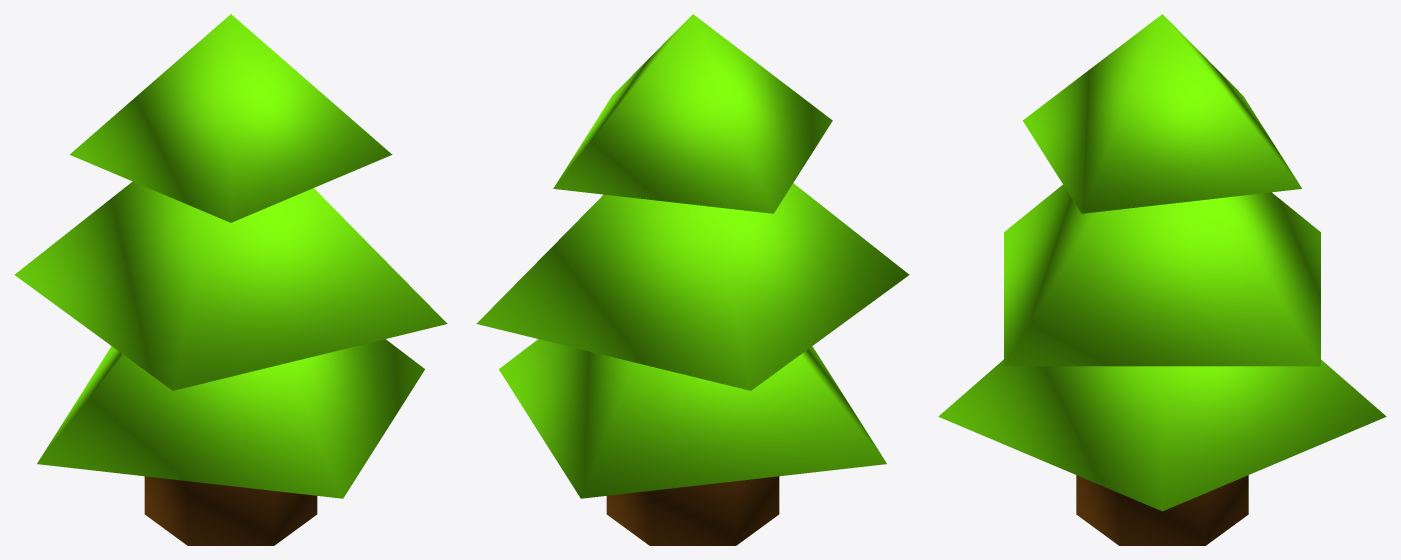
Rendered from Tree.fbx.
The picture shows the model from 3 angles, left to right: view 1: azimuth 30°, elevation 25°; view 2: azimuth 150°, elevation 25°; view 3: azimuth 270°, elevation 25°; orthographic projection.
Parts seen in each view (by area): view 1: Tree; view 2: Tree; view 3: Tree.
Boxes of the visible parts, x1,y1,x2,y2 form: Tree: [14, 14, 447, 545]; Tree: [476, 14, 909, 545]; Tree: [938, 14, 1386, 545].
Bounding box in the file's own units: 520 × 520 × 640.
